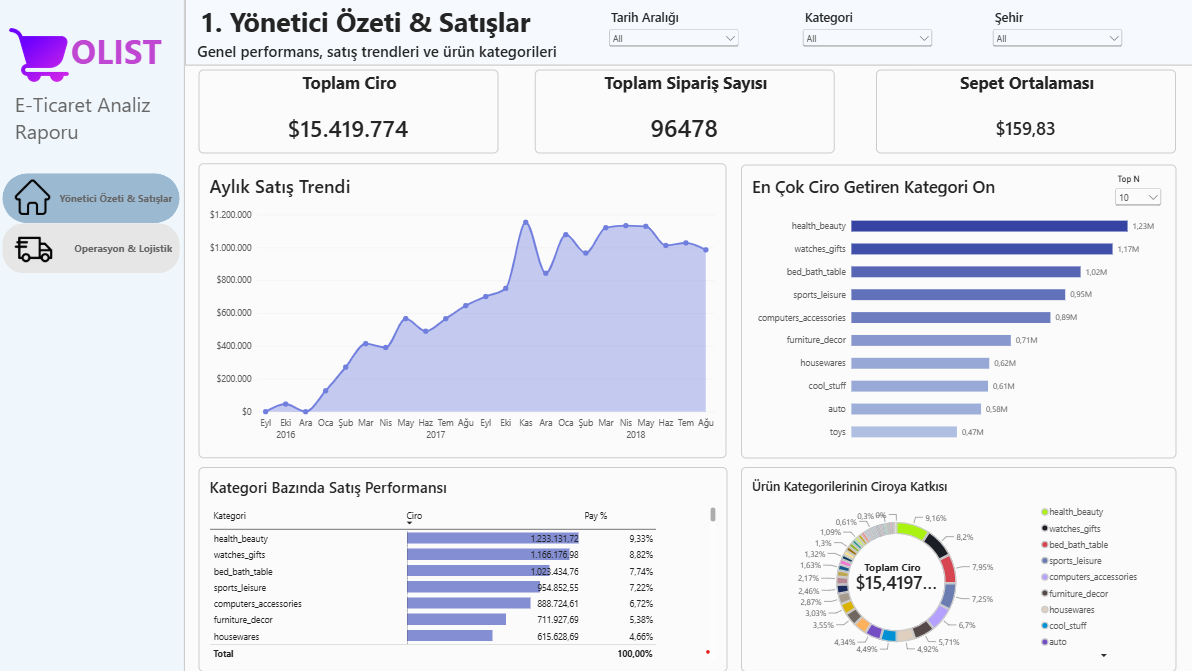

The page's visual inventory and layout, read from the dashboard file:
{"tool":"powerbi","page":{"name":"Yönetici Özeti & Satışlar","canvas":[1920,1080],"ordinal":0},"visuals":[{"type":"shape","box":[0,0,302.6,1080.6],"z":0},{"type":"shape","box":[302.2,0,1617.8,110],"z":1000},{"type":"cardVisual","title":"Toplam Ciro","fields":{"Data":["Measure.Total Revenue"]},"box":[323.6,116.4,479.7,134.3],"z":2000},{"type":"cardVisual","title":"Sepet Ortalaması","fields":{"Data":["Measure.Average Order Value"]},"box":[1408.3,116.7,479.7,134.3],"z":3000},{"type":"cardVisual","title":"Toplam Sipariş Sayısı","fields":{"Data":["Measure.Total Orders"]},"box":[861.1,116.7,479.7,134.3],"z":4000},{"type":"areaChart","title":"Aylık Satış Trendi","fields":{"Category":["vw_sales_performance.year","vw_sales_performance.Ay Ismi"],"Y":["Measure.Total Revenue"]},"box":[323.3,266.7,845,471.7],"z":5000},{"type":"clusteredBarChart","title":"En Çok Ciro Getiren Kategori On ","fields":{"Category":["vw_category_performance.category_name"],"Y":["Measure.Dinamik Kategori Ciro"]},"box":[1191.7,268.3,696.7,470],"z":6000},{"type":"slicer","fields":{"Values":["Top N.Top N"]},"box":[1786.7,281.7,83.3,66.7],"z":7000},{"type":"tableEx","title":"Kategori Bazında Satış Performansı","fields":{"Values":["vw_category_performance.category_name","vw_category_performance.total_sales_revenue","Sum(vw_category_performance.total_sales_revenue)"]},"box":[324,752,846,328],"z":8000},{"type":"donutChart","title":"Ürün Kategorilerinin Ciroya Katkısı","fields":{"Category":["vw_sales_performance.category_name"],"Y":["Measure.Total Revenue"]},"box":[1192,752,697,328],"z":9000},{"type":"textbox","box":[1358,900,152.5,35],"z":10000},{"type":"textbox","box":[325,10,575.7,82.9],"z":11000},{"type":"textbox","box":[280,70,659,88],"z":12000},{"type":"slicer","title":"Tarih Aralığı","fields":{"Values":["vw_sales_performance.year","vw_sales_performance.Month_name"]},"box":[975,18.3,216.7,104.4],"z":13000},{"type":"slicer","title":"Tarih Aralığı","fields":{"Values":["vw_sales_performance.customer_city"]},"box":[1590,18,216.7,104.4],"z":14000},{"type":"slicer","title":"Tarih Aralığı","fields":{"Values":["vw_category_performance.category_name"]},"box":[1286,18,216.7,104.4],"z":15000},{"type":"textbox","box":[120,50,160,98.3],"z":16000},{"type":"textbox","box":[30,150,291.7,166.7],"z":17000},{"type":"actionButton","box":[10,282,284,80],"z":18000},{"type":"image","box":[18.3,25,101.7,133.3],"z":19000},{"type":"actionButton","box":[10,362,284,80],"z":20000},{"type":"image","box":[30,292.2,56.7,56.7],"z":21000},{"type":"image","box":[30,374.4,60,60],"z":22000}]}

Visuals, with their boxes on the page's 1920x1080 design canvas (x1, y1, x2, y2). These are canvas units, not pixel positions in the 1192x671 screenshot, which may show the page scaled, cropped or inside an application window:
shape: <bbox>0, 0, 303, 1081</bbox>
shape: <bbox>302, 0, 1920, 110</bbox>
"Toplam Ciro" cardVisual: <bbox>324, 116, 803, 251</bbox>
"Sepet Ortalaması" cardVisual: <bbox>1408, 117, 1888, 251</bbox>
"Toplam Sipariş Sayısı" cardVisual: <bbox>861, 117, 1341, 251</bbox>
"Aylık Satış Trendi" areaChart: <bbox>323, 267, 1168, 738</bbox>
"En Çok Ciro Getiren Kategori On " clusteredBarChart: <bbox>1192, 268, 1888, 738</bbox>
slicer - Top N.Top N: <bbox>1787, 282, 1870, 348</bbox>
"Kategori Bazında Satış Performansı" tableEx: <bbox>324, 752, 1170, 1080</bbox>
"Ürün Kategorilerinin Ciroya Katkısı" donutChart: <bbox>1192, 752, 1889, 1080</bbox>
textbox: <bbox>1358, 900, 1510, 935</bbox>
textbox: <bbox>325, 10, 901, 93</bbox>
textbox: <bbox>280, 70, 939, 158</bbox>
"Tarih Aralığı" slicer: <bbox>975, 18, 1192, 123</bbox>
"Tarih Aralığı" slicer: <bbox>1590, 18, 1807, 122</bbox>
"Tarih Aralığı" slicer: <bbox>1286, 18, 1503, 122</bbox>
textbox: <bbox>120, 50, 280, 148</bbox>
textbox: <bbox>30, 150, 322, 317</bbox>
actionButton: <bbox>10, 282, 294, 362</bbox>
image: <bbox>18, 25, 120, 158</bbox>
actionButton: <bbox>10, 362, 294, 442</bbox>
image: <bbox>30, 292, 87, 349</bbox>
image: <bbox>30, 374, 90, 434</bbox>
